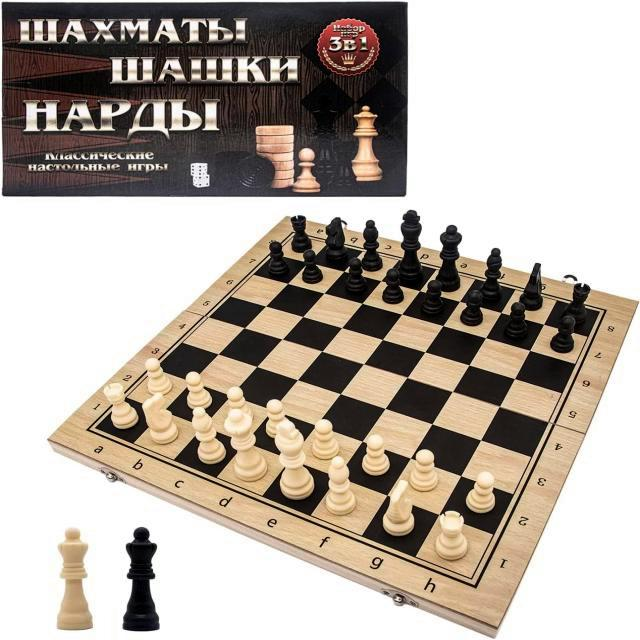chess-table-corners: (454, 570, 494, 600), (77, 416, 106, 440), (588, 302, 614, 322)
